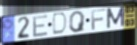2: (17, 16, 31, 42)
D: (52, 12, 69, 36)
E: (32, 14, 49, 39)
F: (91, 8, 107, 31)
M: (105, 6, 125, 30)
Q: (68, 10, 87, 34)
